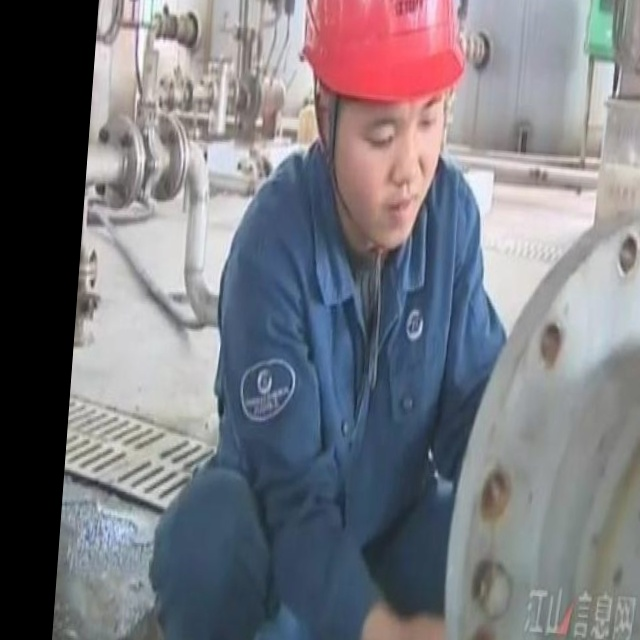Con_Casco: (288, 0, 466, 252)
